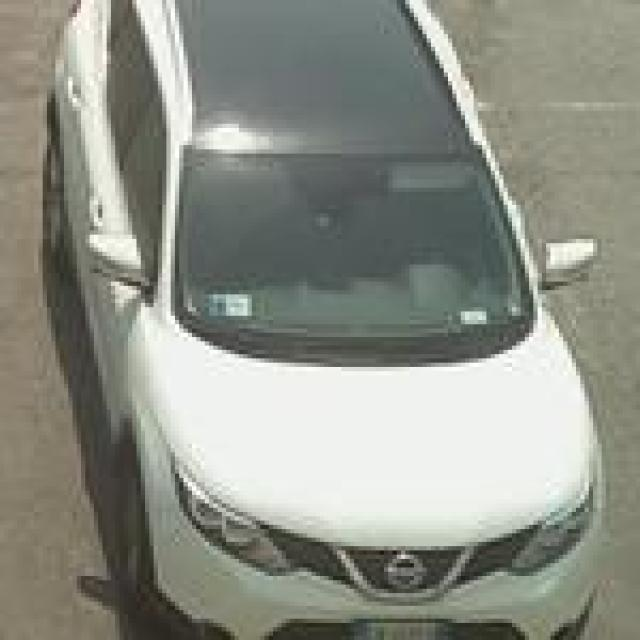cars-sUYr: (20, 0, 622, 640)
